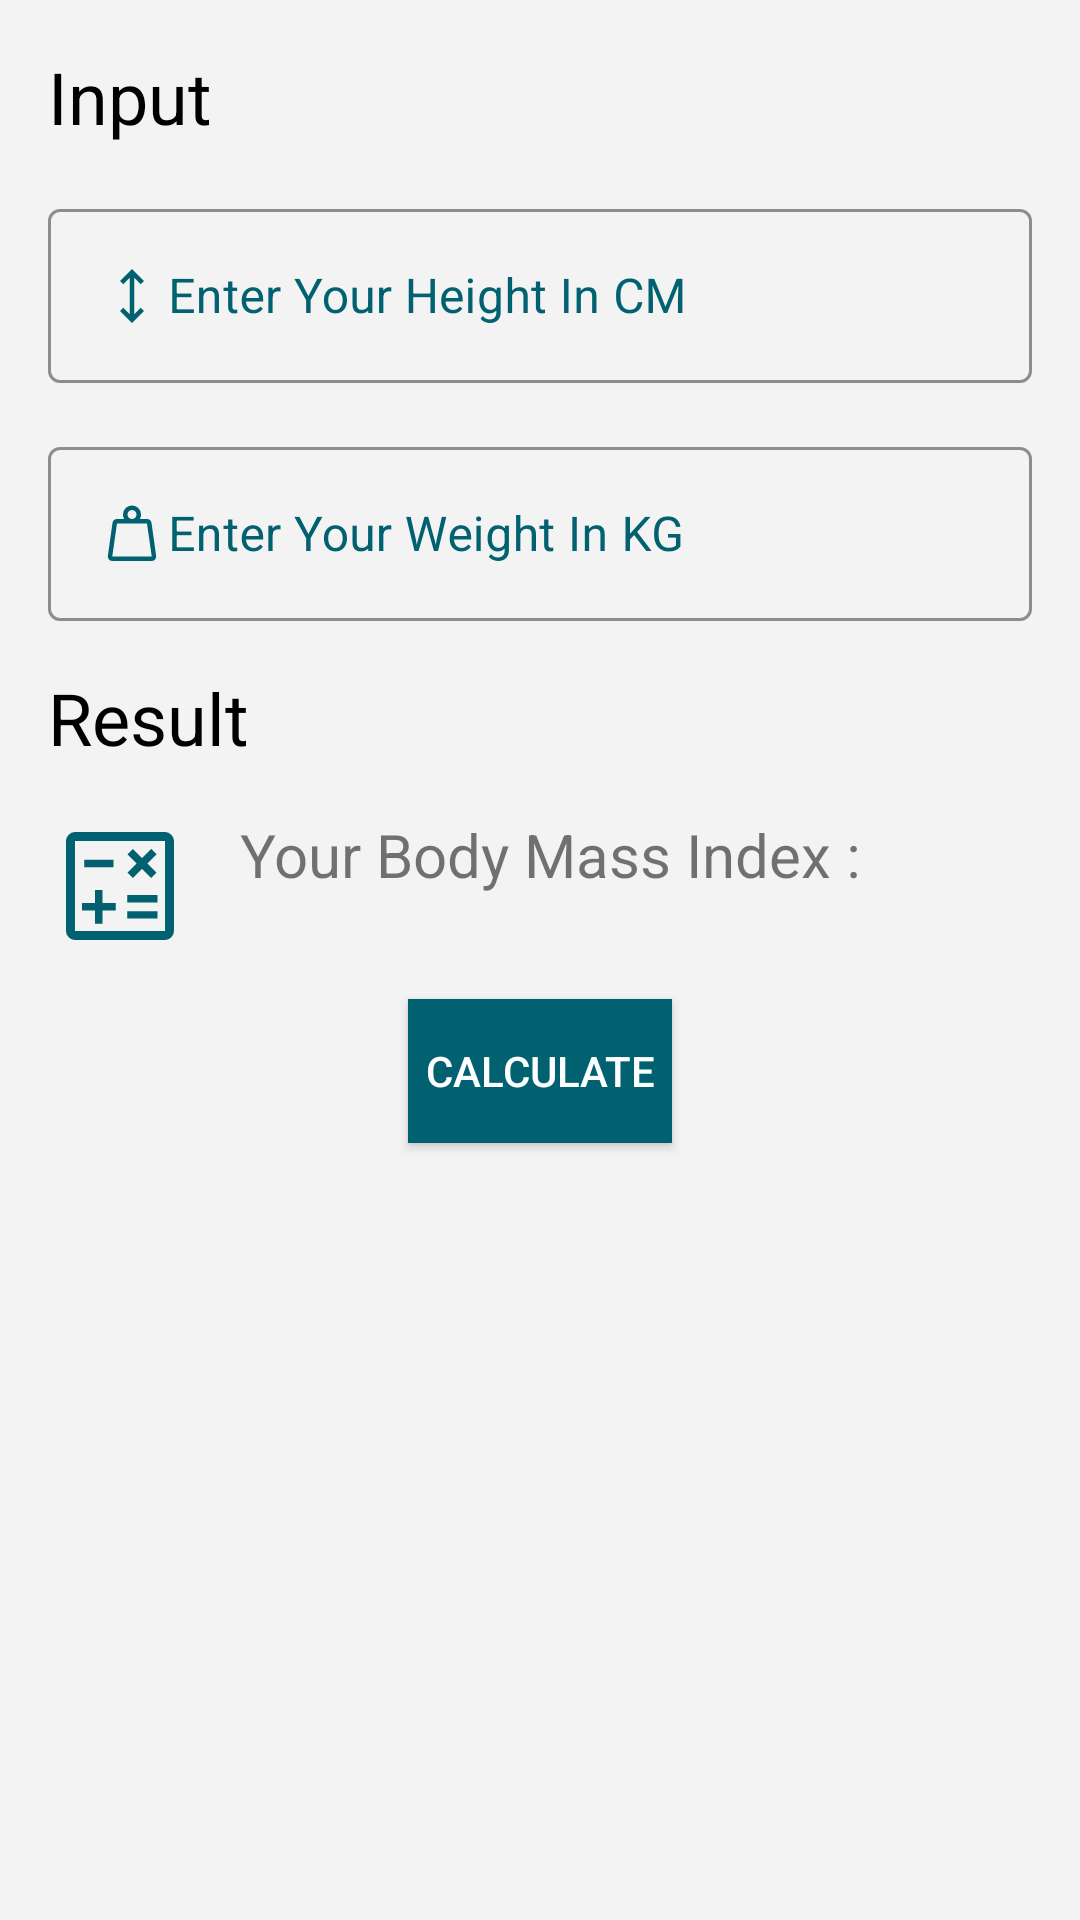

Icons on this 1080w x 1920h Android screen, each with the point to tap as (x=x, y=y):
calculate: (x=120, y=886)
